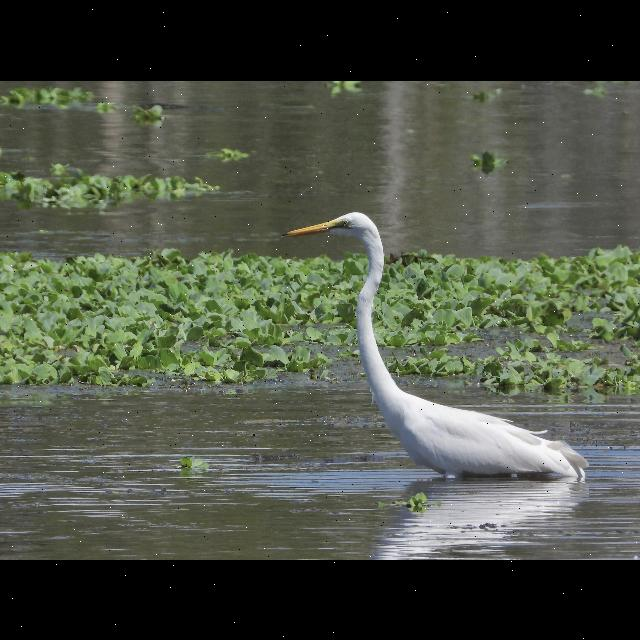egret: (269, 199, 596, 499)
